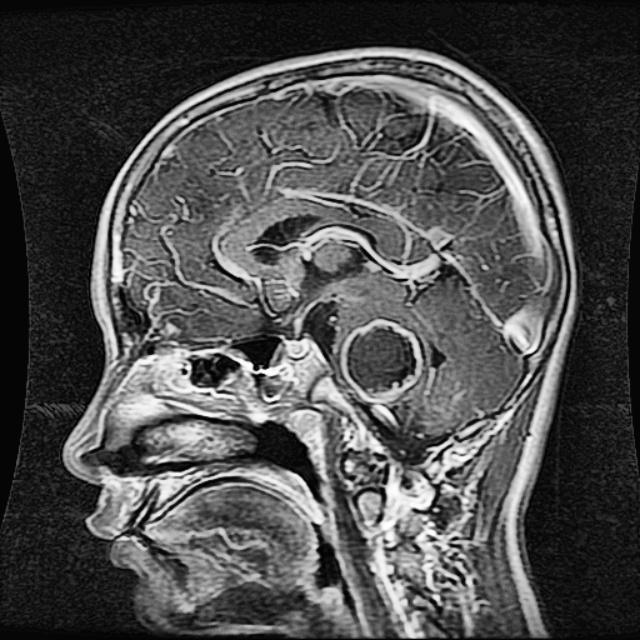Meningioma: (340, 317, 422, 402)
